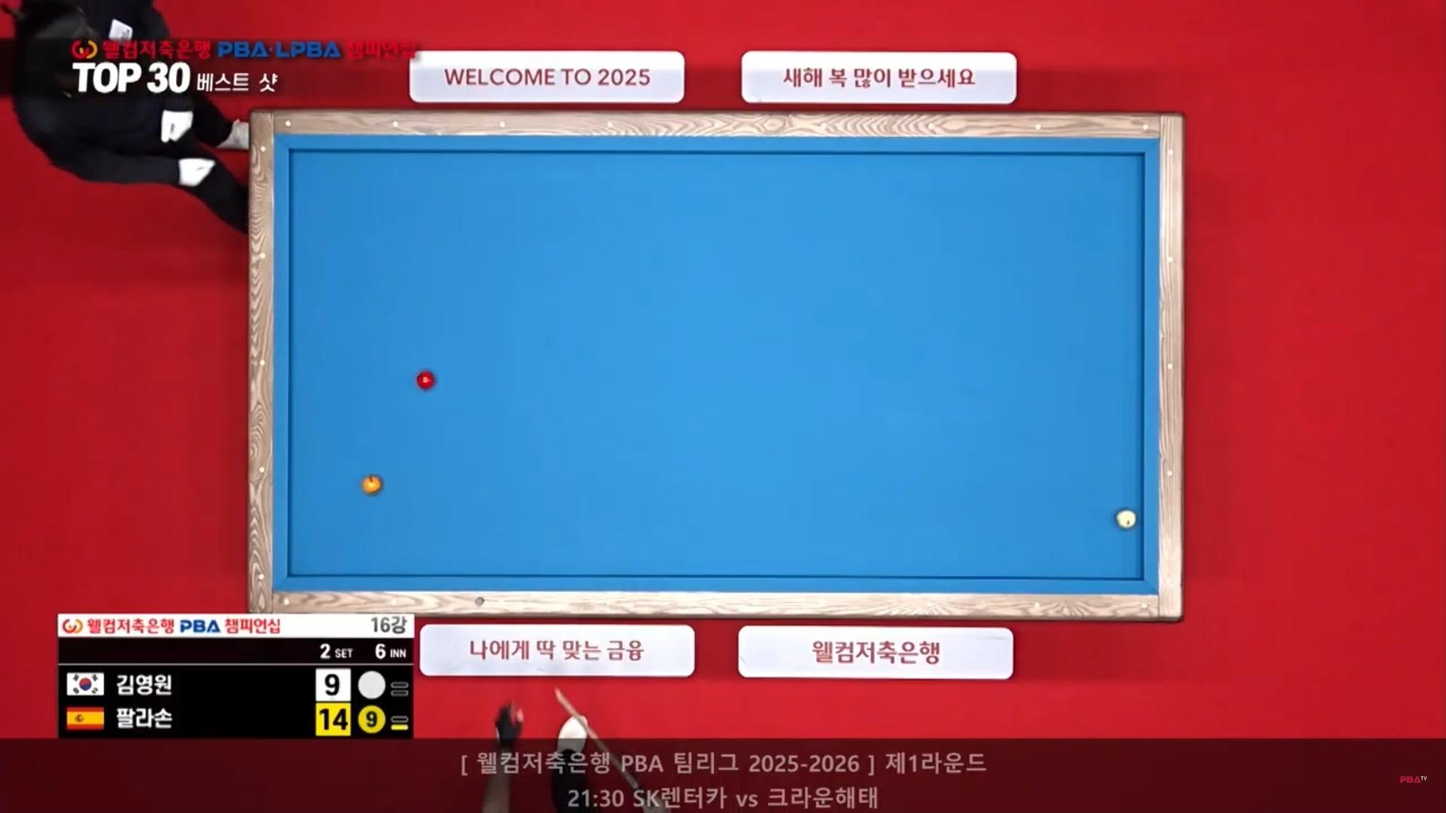Red: (413, 371, 437, 389)
White: (1114, 508, 1139, 529)
Yellow: (362, 476, 386, 495)
